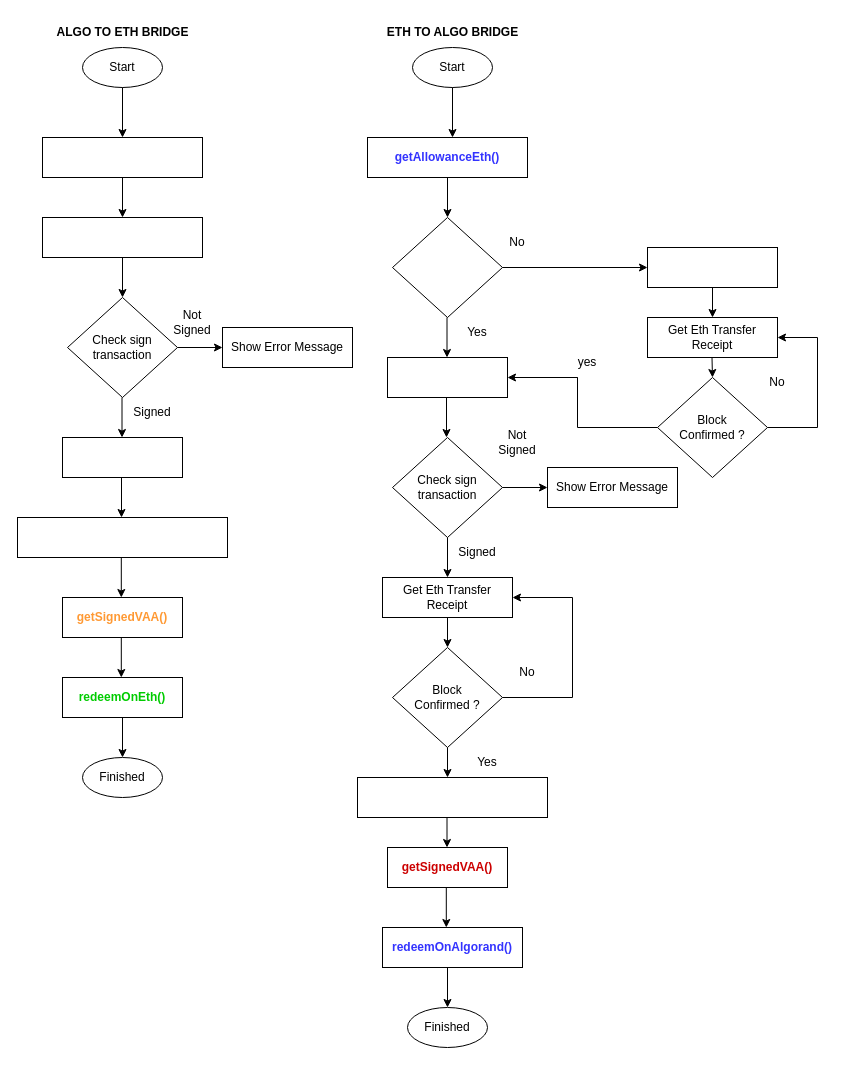
This 843x1065 diagram has some shape labels left out. The centre of each missing label's shape, as x and y in pixels:
"Allowance > amount" goes at (x=447, y=267).
"parseSequenceFromLogAlgorand()" goes at (x=122, y=537).
"parseSequenceFromLogEth()" goes at (x=452, y=797).
"Send Allowance" goes at (x=712, y=267).
"Sign Transaction" goes at (x=122, y=237).
"Submit Transaction" goes at (x=122, y=457).
"transferFromAlgorand()" goes at (x=122, y=157).
"transferFromEth()" goes at (x=447, y=377).
